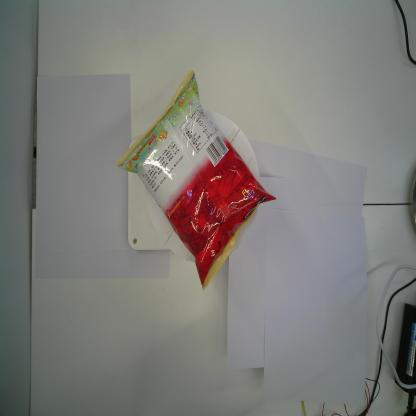Puffed Food: (115, 69, 276, 290)
